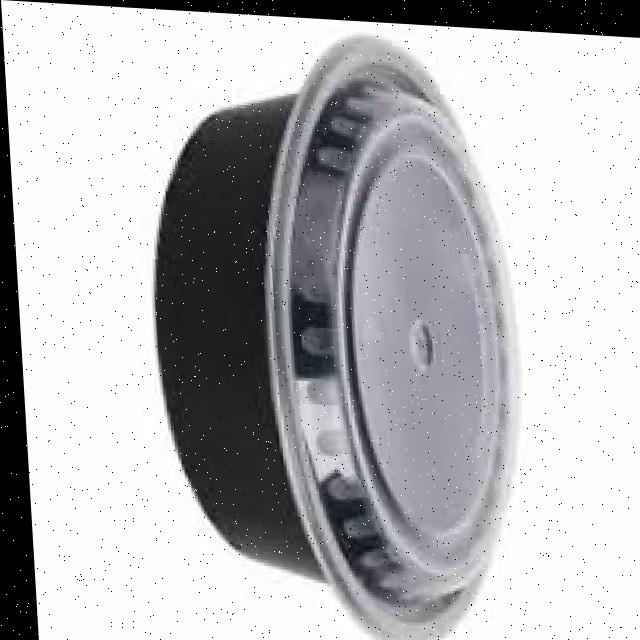disposable: (123, 12, 555, 640)
